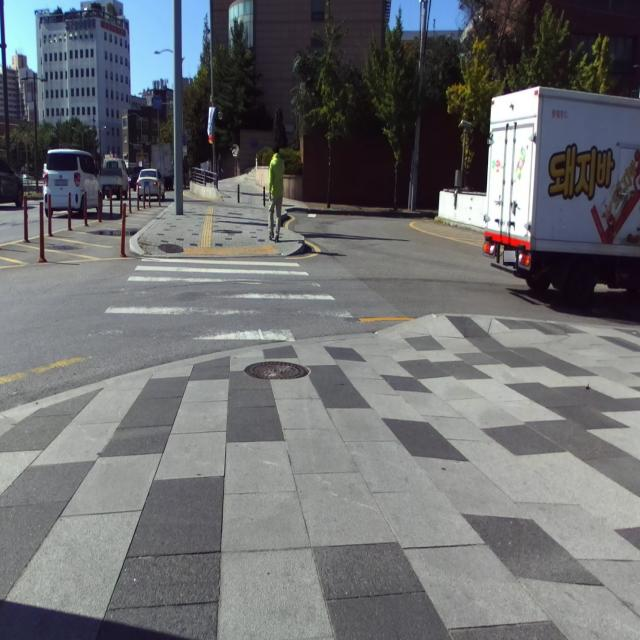횡단보도: (88, 258, 354, 340)
